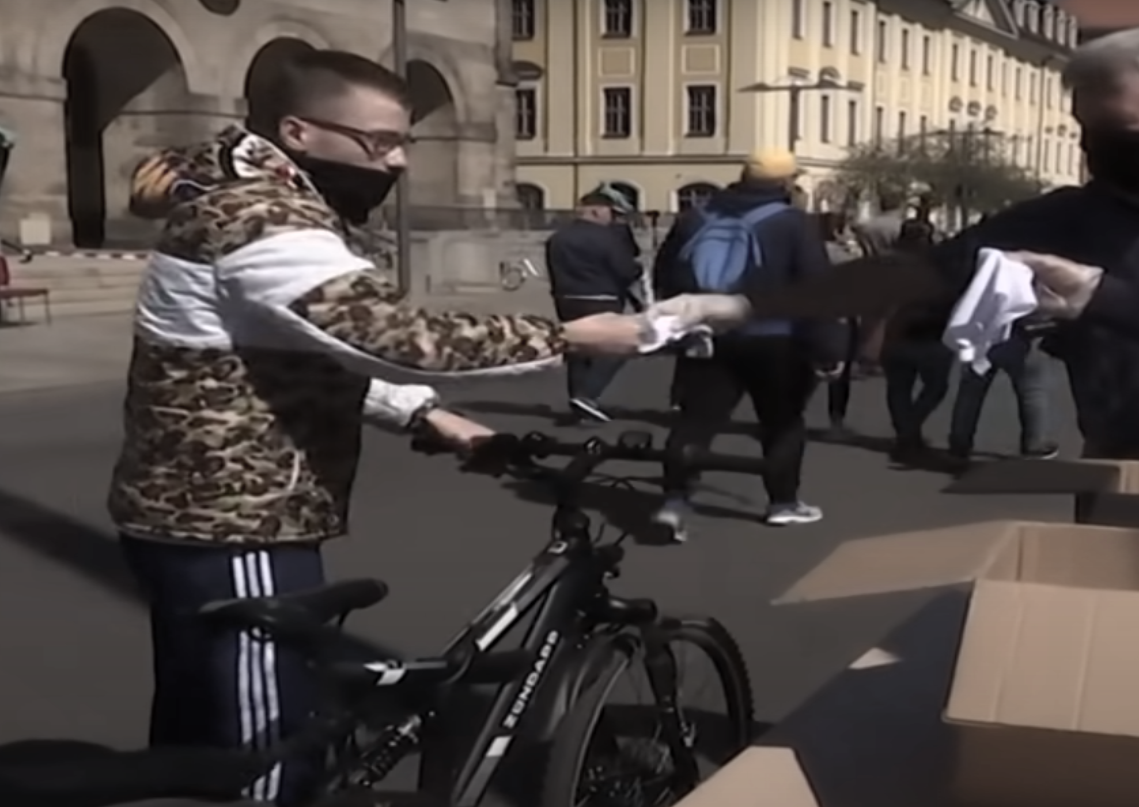mask_weared_incorrect: (249, 47, 422, 222)
